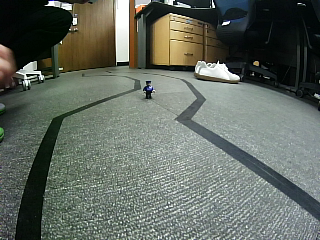person: (142, 81, 156, 100)
